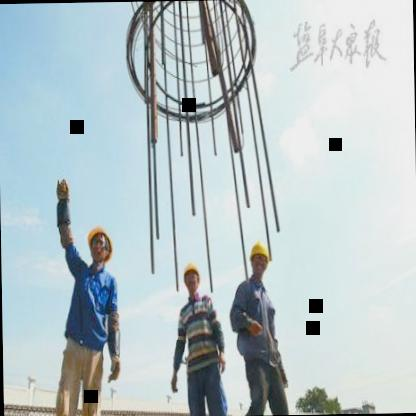helmet: (86, 222, 114, 268), (248, 236, 271, 278), (181, 260, 201, 295)
